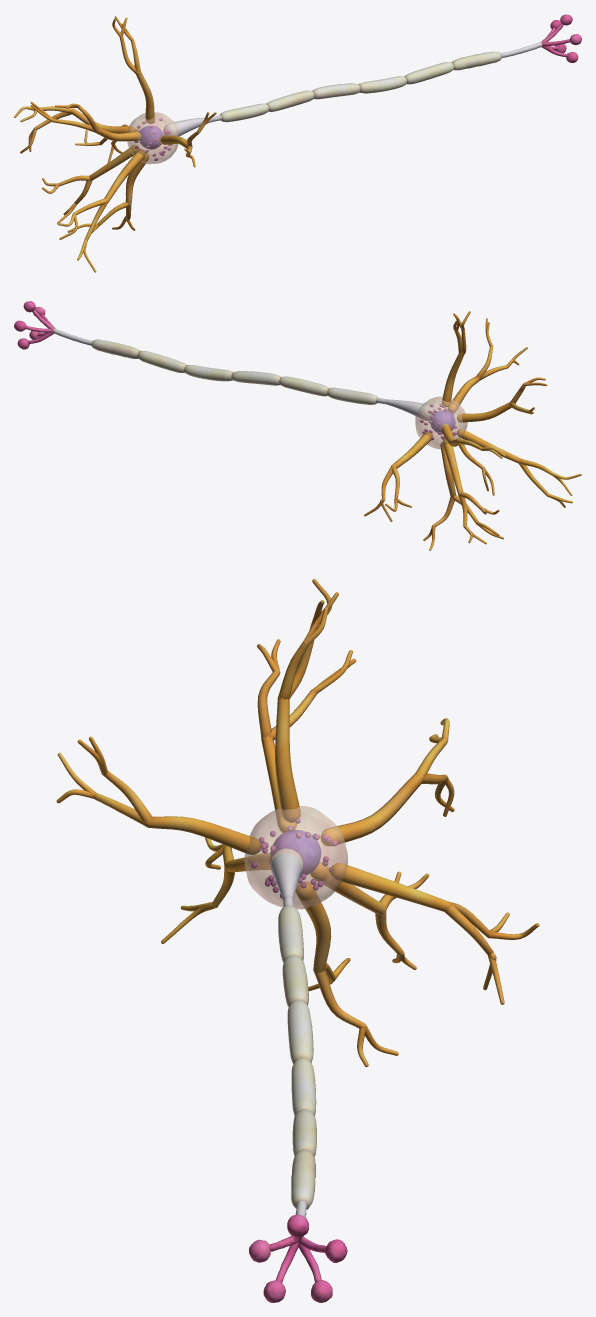
The model's file is neuron.glb.
The picture shows the model from 3 angles, top to bottom: view 1: azimuth 30°, elevation 25°; view 2: azimuth 150°, elevation 25°; view 3: azimuth 270°, elevation 25°; orthographic projection. The views are drawn at different scales.
Parts seen in each view (by area): view 1: neuron-dendrites, neuron-myelin, neuron-soma, neuron-terminals, neuron-axon, neuron-nucleus; view 2: neuron-dendrites, neuron-myelin, neuron-soma, neuron-terminals, neuron-axon, neuron-nucleus; view 3: neuron-dendrites, neuron-soma, neuron-myelin, neuron-terminals, neuron-axon, neuron-nucleus.
Boxes of the visible parts, x1,y1,x2,y2 form: neuron-dendrites: (14, 16, 216, 272); neuron-myelin: (220, 51, 501, 122); neuron-soma: (127, 112, 178, 164); neuron-terminals: (541, 14, 581, 62); neuron-axon: (163, 42, 542, 136); neuron-nucleus: (139, 125, 163, 149); neuron-dendrites: (364, 311, 581, 550); neuron-myelin: (91, 339, 377, 404); neuron-soma: (415, 396, 467, 449); neuron-terminals: (14, 301, 55, 349); neuron-axon: (53, 328, 434, 420); neuron-nucleus: (430, 410, 455, 434); neuron-dendrites: (56, 579, 539, 1067); neuron-soma: (244, 806, 347, 909); neuron-myelin: (278, 905, 316, 1209); neuron-terminals: (249, 1214, 347, 1302); neuron-axon: (270, 848, 306, 1236); neuron-nucleus: (270, 830, 321, 876).
Size of what is drawn, in the model's own units: 14.67 by 6.01 by 5.74.
